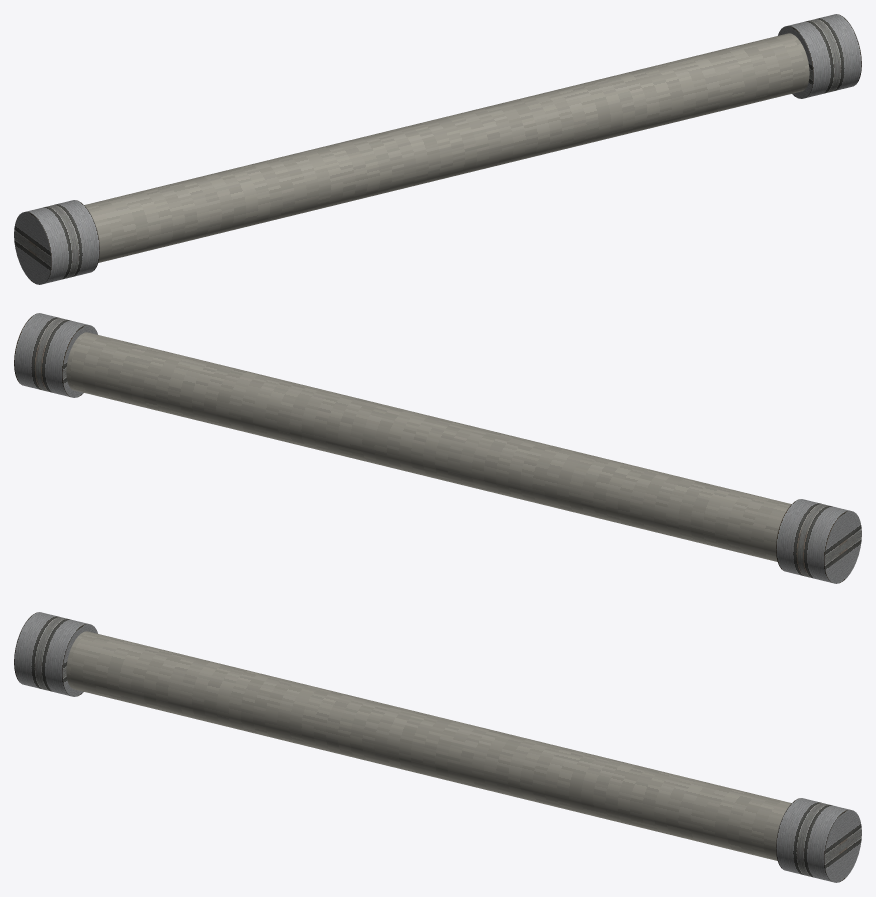
File: waste.glb
3 renders of one model, top to bottom at view 1: azimuth 30°, elevation 25°; view 2: azimuth 150°, elevation 25°; view 3: azimuth 330°, elevation 25°, orthographic.
Visible parts, largest first — view 1: barrel, flange (×2); view 2: barrel, flange (×2); view 3: barrel, flange (×2).
Boxes of the visible parts, x1=… form: barrel: x1=84, y1=33, x2=809, y2=262; flange (×2): x1=14, y1=14, x2=861, y2=284; barrel: x1=66, y1=332, x2=791, y2=561; flange (×2): x1=14, y1=313, x2=861, y2=583; barrel: x1=66, y1=631, x2=791, y2=860; flange (×2): x1=14, y1=612, x2=861, y2=882.
Size of the model in its own units: 1 by 0.08 by 0.08.
2 materials, 2 textured.
